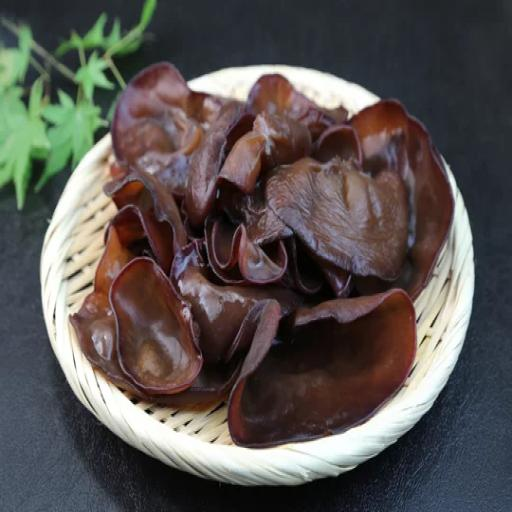Wood Ear Mushroom: (71, 45, 457, 450)
